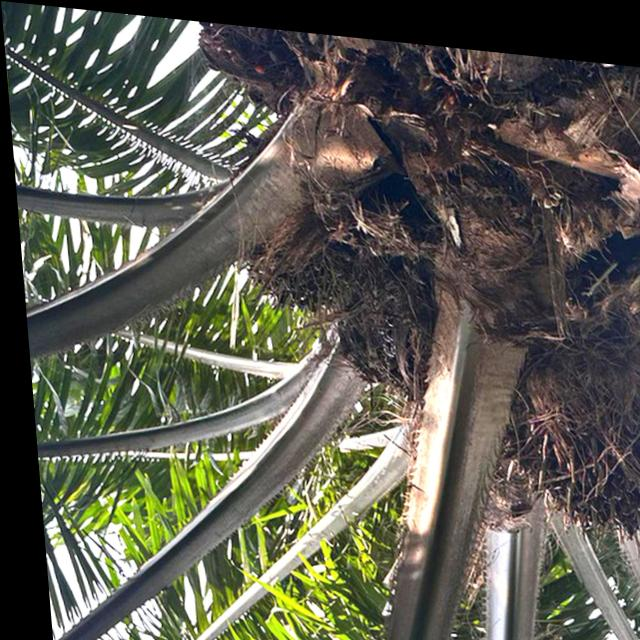unripe: (464, 310, 640, 560), (204, 166, 403, 330)
